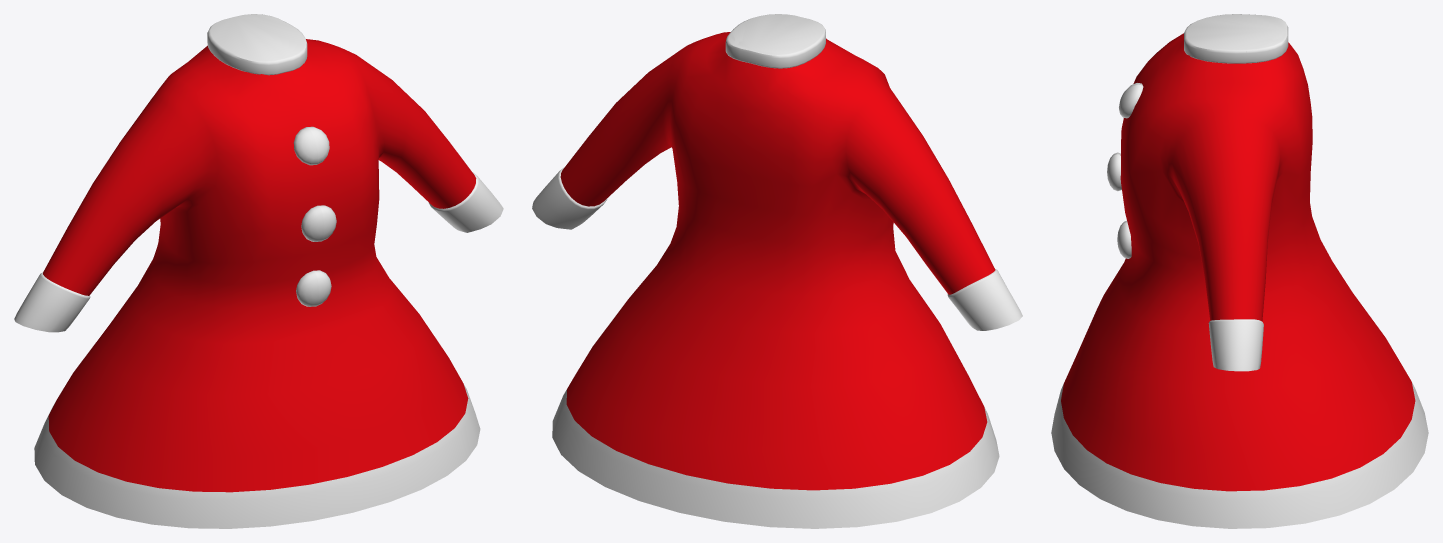
File: one-piece_santa.fbx
3 views of the same model, side by side, from view 1: azimuth 30°, elevation 25°; view 2: azimuth 150°, elevation 25°; view 3: azimuth 270°, elevation 25° (orthographic).
Parts seen in each view (by area): view 1: tops_santa; view 2: tops_santa; view 3: tops_santa.
Part boxes in pixels (x1,y1,x2,y2): tops_santa: [14, 14, 503, 528]; tops_santa: [532, 14, 1022, 528]; tops_santa: [1051, 14, 1428, 528].
Bounding box in the file's own units: 1.93 × 1.55 × 1.32.
